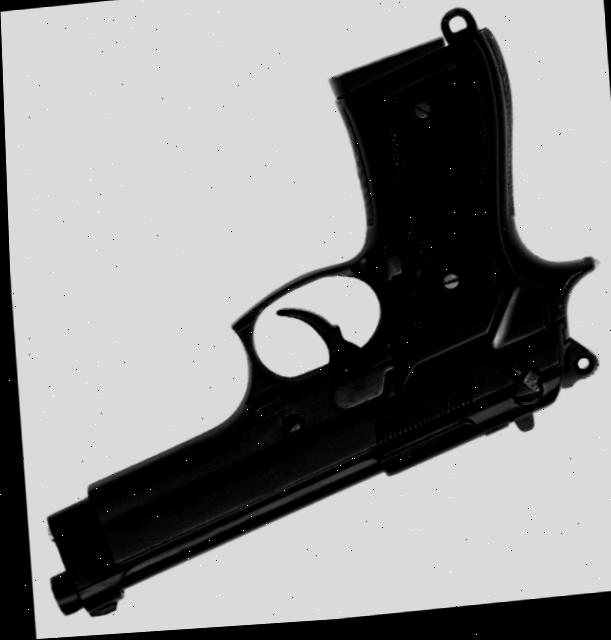pistol: (7, 6, 611, 627)
